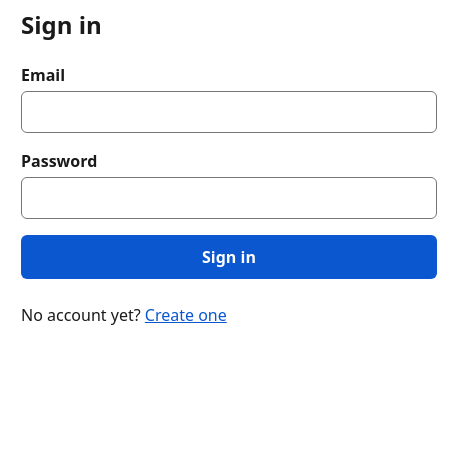
Scenario: LoginPage › failures › shows a wrong password as a form error in our own words
Step 1. Type "a@example.com" into the field labelled "Email" → (229, 112), box [21,91,437,133]
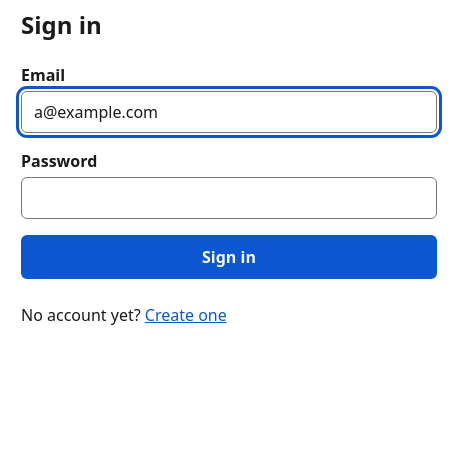
Step 2. Type "wrong-pass" into the password field labelled "Password" → (229, 198), box [21,177,437,219]
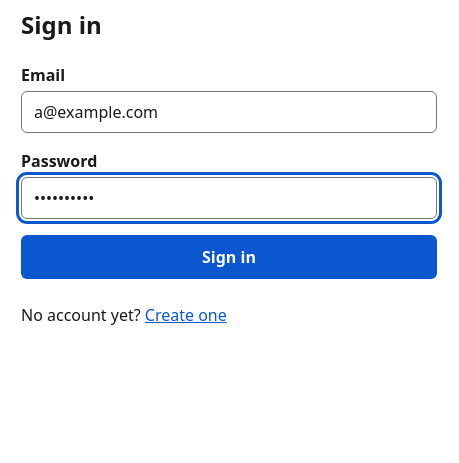
Step 3. Click the button "Sign in" → (229, 257), box [21,235,437,279]
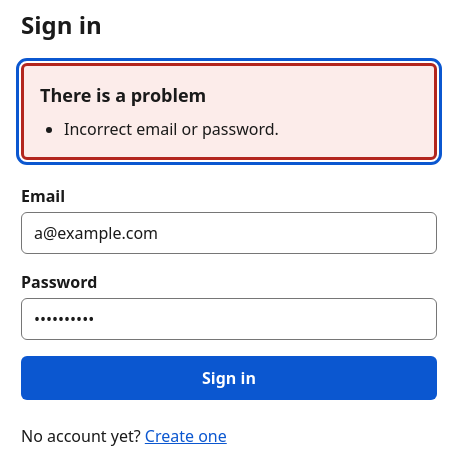
Expected: the element "There is a problem" does not show "Server wording", [21,63,437,160]
Expected: the element "There is a problem" shows "Incorrect email or password.", [64,118,279,140]
